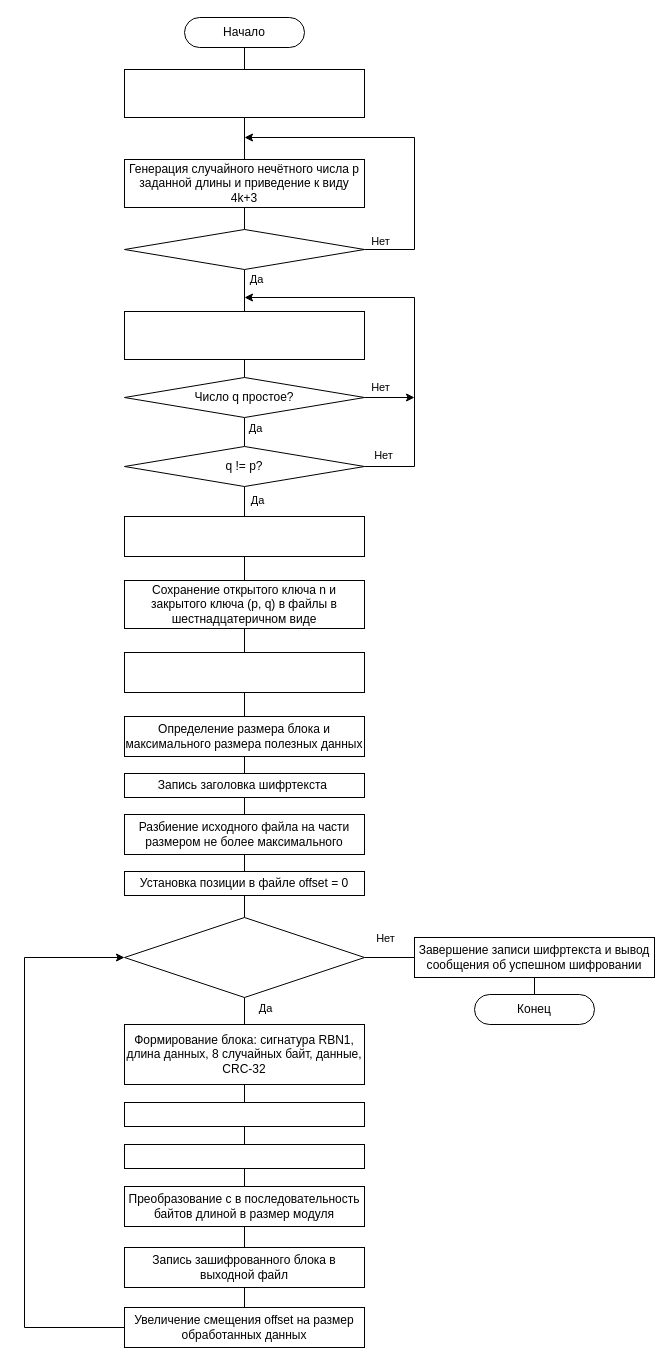
The diagram is 672 pixels wide and 1365 high, and some of its shapes have lost their labels. The shapes that lost their labels are listed below. From the top down, each one's box as (x1, y1, x2, y2) in pixels, then its label:
(124, 68, 364, 118): Ввод длины простых чисел (256 или 512 бит) и имён файлов ключей
(124, 228, 364, 270): Число p простое?
(124, 310, 364, 360): Генерация случайного нечётного числа q заданной длины и приведение к виду 4k+3
(124, 516, 364, 556): Вычисление открытого параметра n = p * q
(124, 652, 364, 692): Чтение открытого ключа и исходного файла
(124, 916, 364, 998): Остались необработанные данные (offset < размер файла)?
(124, 1102, 364, 1126): Преобразование блока в число m
(124, 1144, 364, 1168): Вычисление c = m^2 mod n
